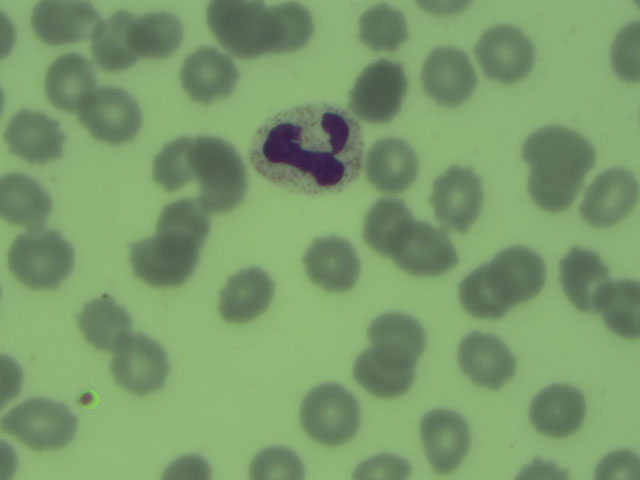Platelets: (75, 386, 105, 414)
RBC: (29, 1, 98, 47), (525, 123, 589, 171), (592, 279, 640, 341), (306, 235, 360, 289), (531, 384, 585, 438), (417, 414, 471, 468), (458, 334, 512, 388), (371, 310, 425, 364), (303, 385, 357, 439), (430, 171, 484, 225), (365, 137, 419, 191), (586, 172, 640, 226), (528, 158, 582, 212), (479, 26, 533, 80), (419, 47, 473, 101), (354, 64, 408, 118), (264, 1, 318, 55), (220, 266, 274, 320), (161, 192, 215, 246), (134, 233, 188, 287), (191, 139, 245, 193), (116, 339, 170, 393), (78, 296, 132, 350), (13, 234, 67, 288), (10, 108, 64, 162), (87, 87, 141, 141), (44, 54, 98, 108), (182, 46, 236, 100), (91, 13, 145, 67), (362, 195, 416, 249), (395, 223, 449, 277), (455, 266, 509, 320), (495, 246, 549, 300), (555, 248, 609, 302), (356, 1, 410, 54), (216, 1, 270, 54), (1, 172, 54, 226), (10, 399, 70, 444), (129, 8, 186, 54), (148, 133, 196, 187), (356, 351, 416, 394), (249, 437, 305, 480), (155, 443, 218, 480), (600, 25, 640, 83), (342, 449, 411, 480), (1, 347, 27, 413), (602, 445, 640, 480)
WBC: (254, 103, 357, 194)
